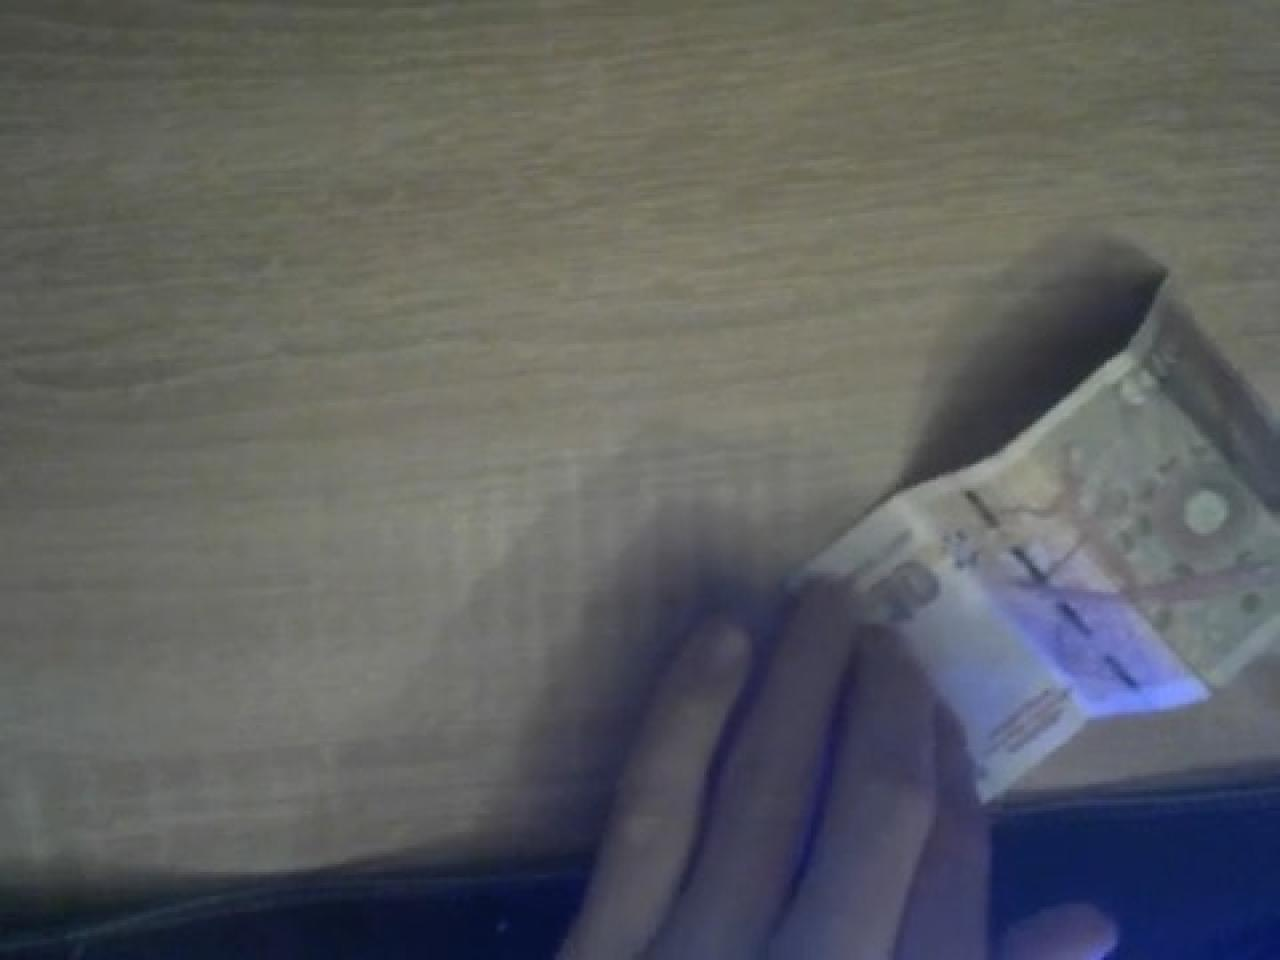10leva: (795, 283, 1280, 805)
